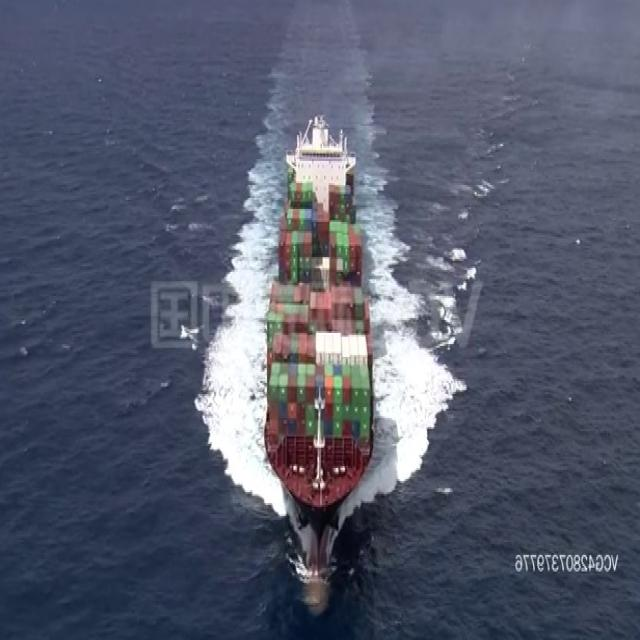cargoship: (262, 111, 380, 601)
